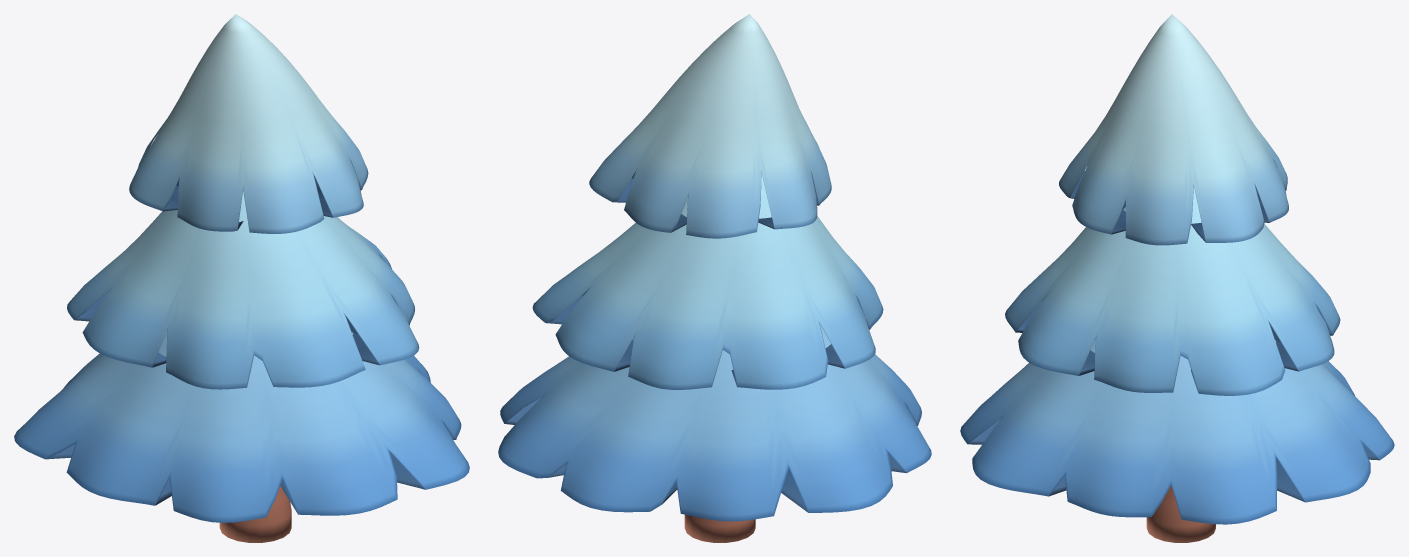
File: bank_pine_3.glb
3 views of the same model, side by side, from view 1: azimuth 30°, elevation 25°; view 2: azimuth 150°, elevation 25°; view 3: azimuth 270°, elevation 25° (orthographic). The views are drawn at different scales.
Visible parts, largest first — view 1: bank_pine_3; view 2: bank_pine_3; view 3: bank_pine_3.
Part boxes in pixels (<box>): bank_pine_3: <box>14,14,469,542</box>; bank_pine_3: <box>498,14,931,542</box>; bank_pine_3: <box>960,14,1394,542</box>.
Bounding box in the file's own units: 2.63 × 3.37 × 2.64.
3 materials, 3 textured.
